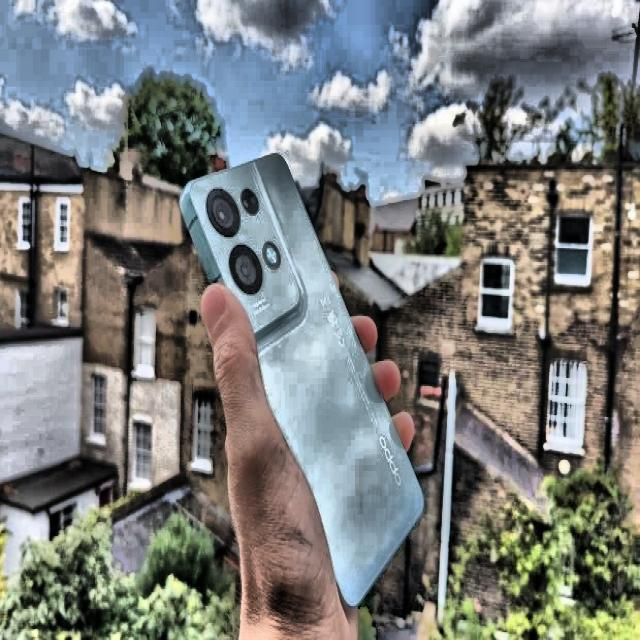Phone: (175, 150, 426, 612)
